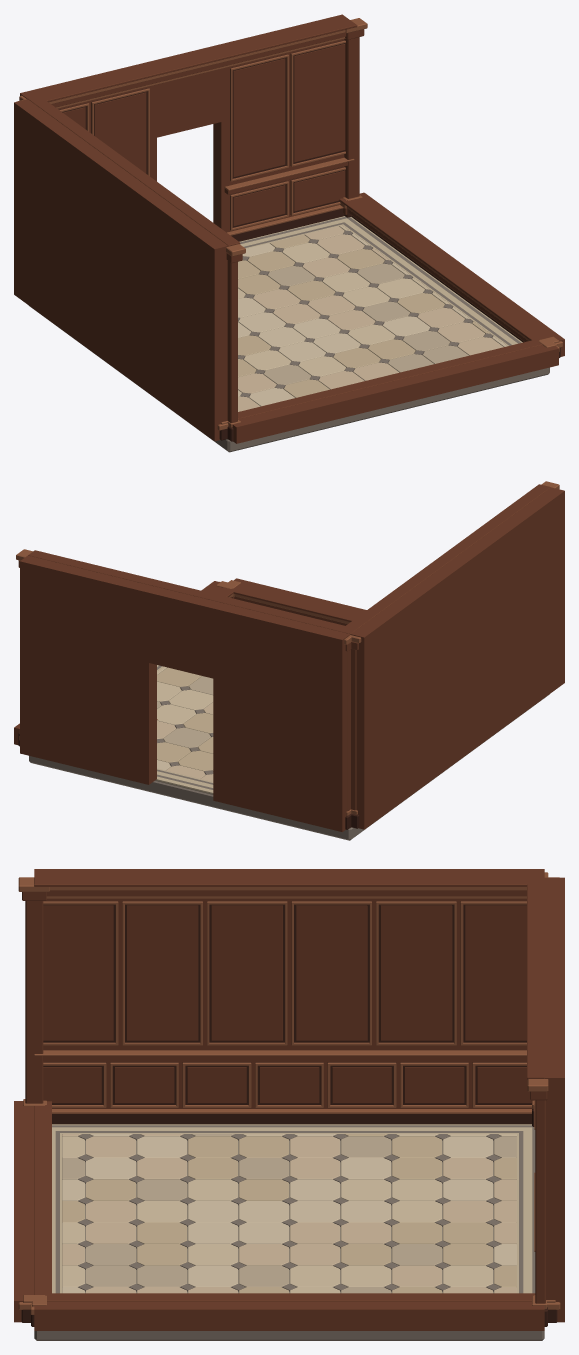
The model's file is main1f_f06_architecture.glb.
3 renders of one model, top to bottom at view 1: azimuth 30°, elevation 25°; view 2: azimuth 150°, elevation 25°; view 3: azimuth 270°, elevation 25°, orthographic. The views are drawn at different scales.
Parts seen in each view (by area): view 1: main1f_f06_left_Wall_Solid_00, main1f_f06_Floor, main1f_f06_rear_Wall_Solid_00, main1f_f06_front_Cutedge_Solid_00, main1f_f06_rear_Wall_UpperPanel_00_1_0_Field, main1f_f06_rear_Wall_UpperPanel_00_1_1_Field, main1f_f06_rear_Wall_UpperPanel_00_0_1_Field, main1f_f06_rear_Wall_Cornice_00_3_0, main1f_f06_right_Cutedge_Solid_00, main1f_f06_right_Cutedge_Cornice_00_3_0, main1f_f06_Floor_Foundation, main1f_f06_left_Wall_Cornice_00_3_0 (+16 smaller); view 2: main1f_f06_rear_Wall_Solid_00, main1f_f06_left_Wall_Solid_00, main1f_f06_Floor, main1f_f06_Floor_Foundation, main1f_f06_left_Wall_Cornice_00_3_0, main1f_f06_rear_Wall_Cornice_00_3_0, main1f_f06_front_Cutedge_Cornice_00_3_0, main1f_f06_front_Cutedge_Solid_00, Pilaster_Shaft, Pilaster_Shaft_003; view 3: main1f_f06_Floor, main1f_f06_right_Cutedge_Solid_00, main1f_f06_left_Wall_Solid_00, main1f_f06_left_Wall_UpperPanel_00_0_1_Field, main1f_f06_left_Wall_UpperPanel_00_0_4_Field, main1f_f06_left_Wall_UpperPanel_00_0_2_Field, main1f_f06_left_Wall_UpperPanel_00_0_3_Field, main1f_f06_left_Wall_UpperPanel_00_0_0_Field, main1f_f06_rear_Wall_Solid_00, main1f_f06_left_Wall_UpperPanel_00_0_5_Field, main1f_f06_left_Wall_Skirting_00_0, main1f_f06_Floor_Foundation (+28 smaller).
Boxes of the visible parts, x1=… form: main1f_f06_left_Wall_Solid_00: x1=14, y1=99, x2=228, y2=441; main1f_f06_Floor: x1=238, y1=216, x2=522, y2=411; main1f_f06_rear_Wall_Solid_00: x1=20, y1=14, x2=349, y2=232; main1f_f06_front_Cutedge_Solid_00: x1=232, y1=345, x2=558, y2=443; main1f_f06_rear_Wall_UpperPanel_00_1_0_Field: x1=233, y1=58, x2=285, y2=176; main1f_f06_rear_Wall_UpperPanel_00_1_1_Field: x1=294, y1=44, x2=345, y2=162; main1f_f06_rear_Wall_UpperPanel_00_0_1_Field: x1=94, y1=92, x2=146, y2=173; main1f_f06_rear_Wall_Cornice_00_3_0: x1=33, y1=20, x2=357, y2=103; main1f_f06_right_Cutedge_Solid_00: x1=356, y1=192, x2=564, y2=356; main1f_f06_right_Cutedge_Cornice_00_3_0: x1=339, y1=198, x2=545, y2=344; main1f_f06_Floor_Foundation: x1=29, y1=306, x2=549, y2=452; main1f_f06_left_Wall_Cornice_00_3_0: x1=28, y1=96, x2=240, y2=246; main1f_f06_rear_Wall_Solid_00: x1=20, y1=555, x2=350, y2=831; main1f_f06_left_Wall_Solid_00: x1=350, y1=487, x2=564, y2=829; main1f_f06_Floor: x1=156, y1=665, x2=213, y2=793; main1f_f06_Floor_Foundation: x1=29, y1=694, x2=549, y2=840; main1f_f06_left_Wall_Cornice_00_3_0: x1=339, y1=484, x2=550, y2=633; main1f_f06_rear_Wall_Cornice_00_3_0: x1=28, y1=550, x2=353, y2=633; main1f_f06_front_Cutedge_Cornice_00_3_0: x1=223, y1=586, x2=358, y2=622; main1f_f06_front_Cutedge_Solid_00: x1=234, y1=578, x2=366, y2=615; Pilaster_Shaft: x1=351, y1=649, x2=356, y2=810; Pilaster_Shaft_003: x1=347, y1=649, x2=350, y2=811; main1f_f06_Floor: x1=52, y1=1124, x2=535, y2=1293; main1f_f06_right_Cutedge_Solid_00: x1=34, y1=1301, x2=544, y2=1330; main1f_f06_left_Wall_Solid_00: x1=34, y1=869, x2=544, y2=1108; main1f_f06_left_Wall_UpperPanel_00_0_1_Field: x1=126, y1=905, x2=198, y2=1040; main1f_f06_left_Wall_UpperPanel_00_0_4_Field: x1=380, y1=905, x2=452, y2=1040; main1f_f06_left_Wall_UpperPanel_00_0_2_Field: x1=211, y1=905, x2=282, y2=1040; main1f_f06_left_Wall_UpperPanel_00_0_3_Field: x1=296, y1=905, x2=367, y2=1040; main1f_f06_left_Wall_UpperPanel_00_0_0_Field: x1=43, y1=905, x2=113, y2=1040; main1f_f06_rear_Wall_Solid_00: x1=544, y1=877, x2=564, y2=1322; main1f_f06_left_Wall_UpperPanel_00_0_5_Field: x1=465, y1=905, x2=526, y2=1040; main1f_f06_left_Wall_Skirting_00_0: x1=52, y1=1114, x2=531, y2=1124; main1f_f06_Floor_Foundation: x1=34, y1=1331, x2=544, y2=1340.
Size of the model in its own units: 7.06 by 4.01 by 7.56.
